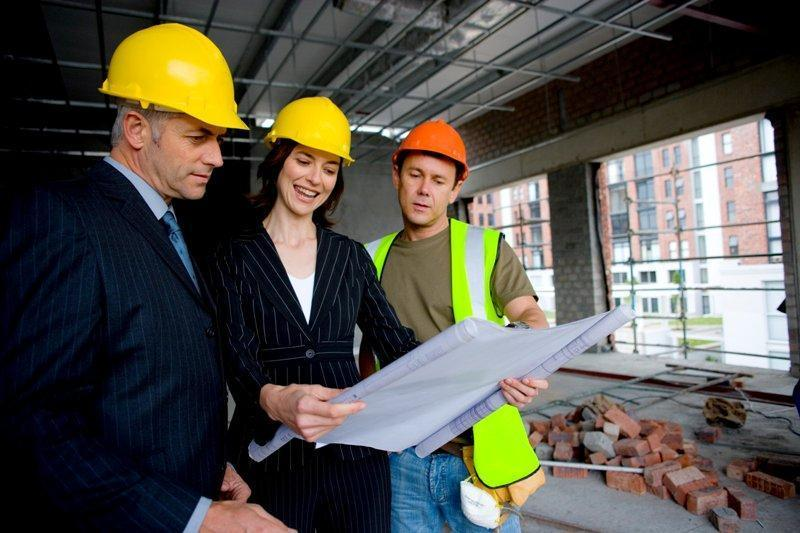no-gloves: (259, 376, 343, 436), (199, 505, 294, 533), (203, 464, 248, 502), (499, 374, 545, 410)
no-vest: (52, 179, 218, 487), (223, 226, 364, 499)
person: (0, 0, 224, 533), (205, 82, 412, 533), (370, 126, 521, 533)
vest: (372, 227, 509, 484)
